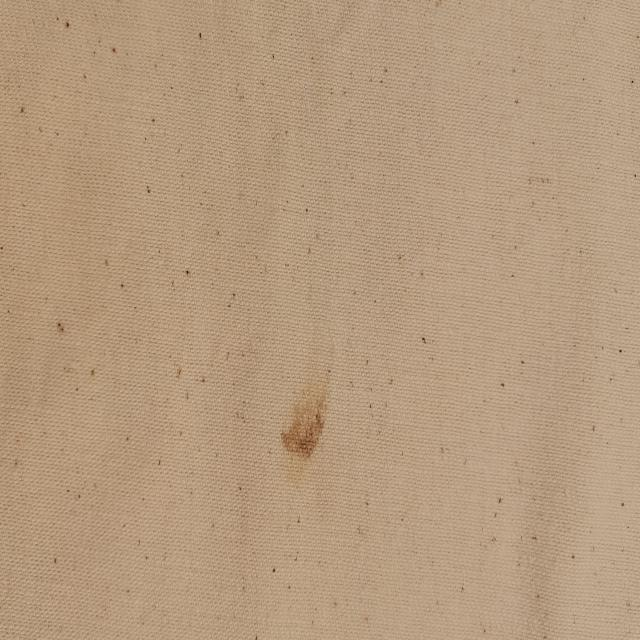taaaches: (280, 362, 332, 468)
